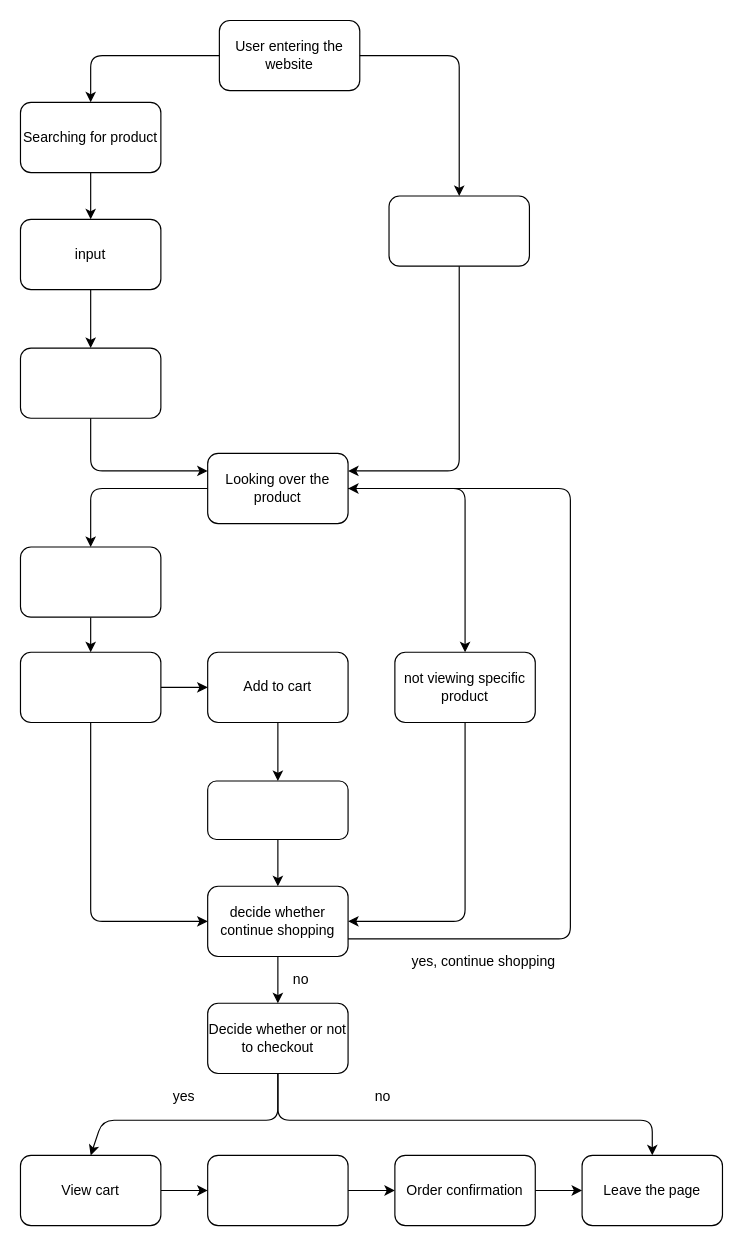
The diagram is 743 pixels wide and 1246 high, and some of its shapes have lost their labels. Each missing label, with the centre of its shape:
Added to cart confirmation: the point at 277,809
Exploring products on home page: the point at 458,230
Product's webpage will open: the point at 90,686
View payment: the point at 277,1190
Viewing a specific product: the point at 90,581
Website response result: the point at 90,382
